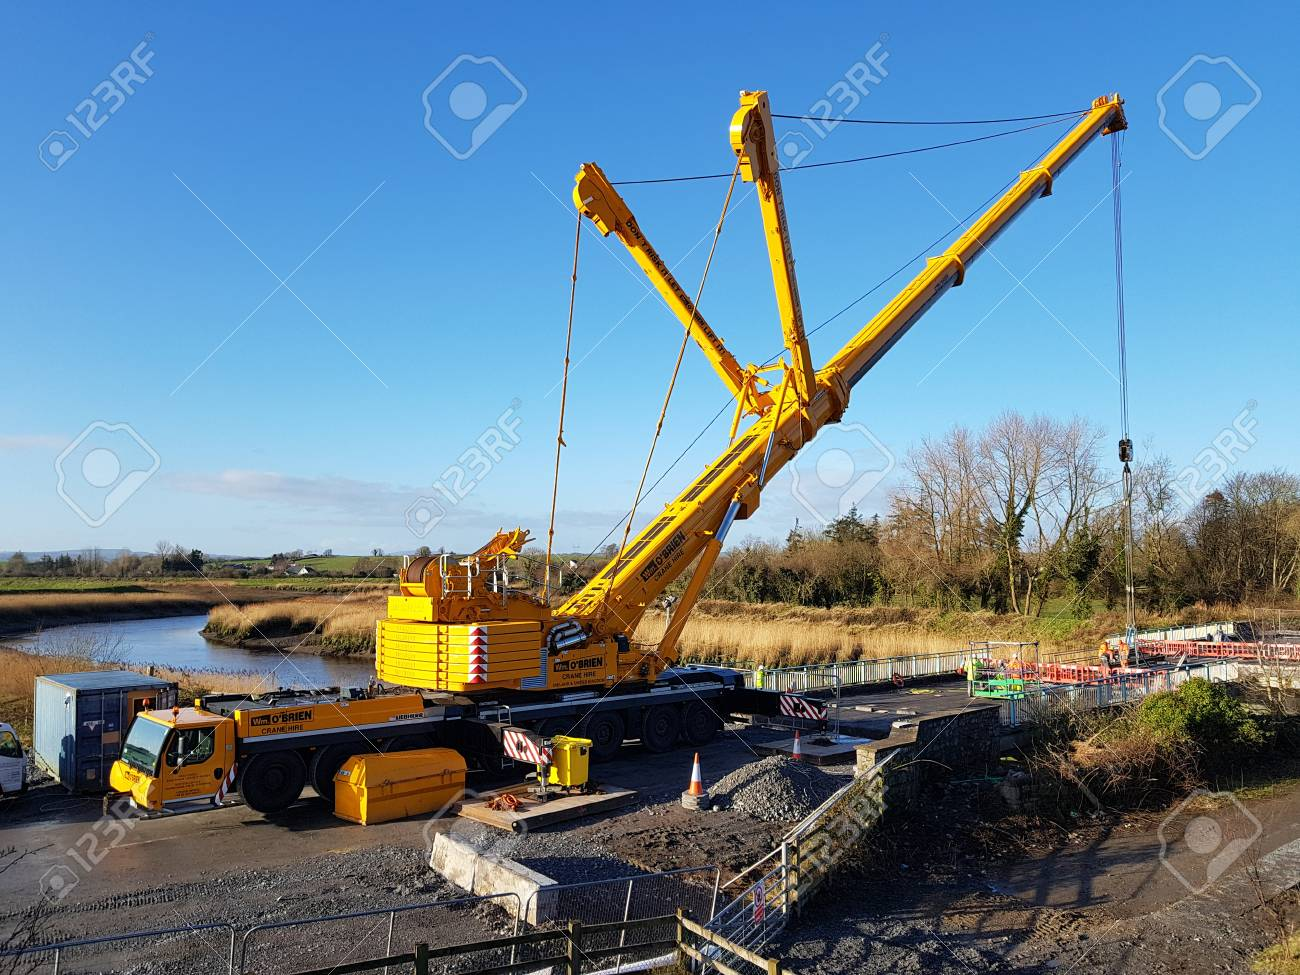crane: (103, 63, 1149, 844)
